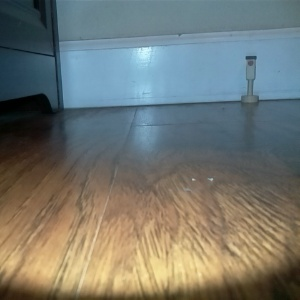traffic light red: (241, 53, 259, 102)
